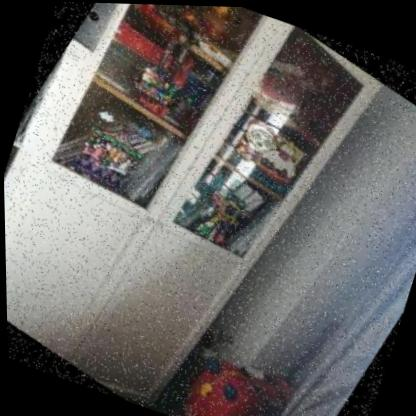Closet: (0, 0, 403, 416)
